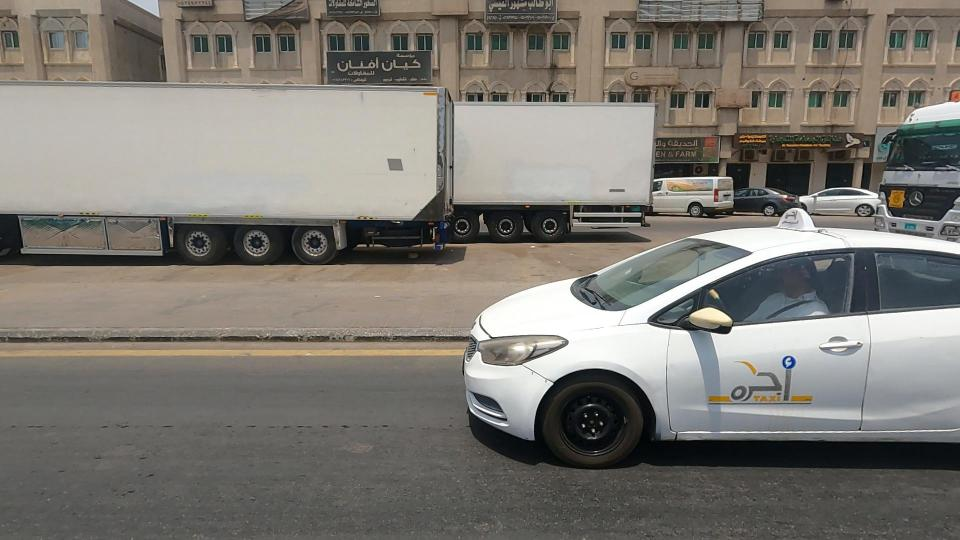SAND_ON_ROAD: (569, 0, 833, 38), (192, 0, 356, 49)
